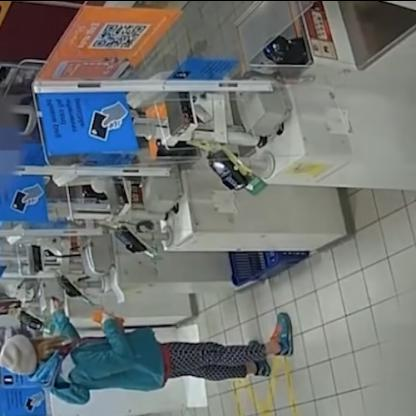Human Body: (0, 289, 298, 406)
